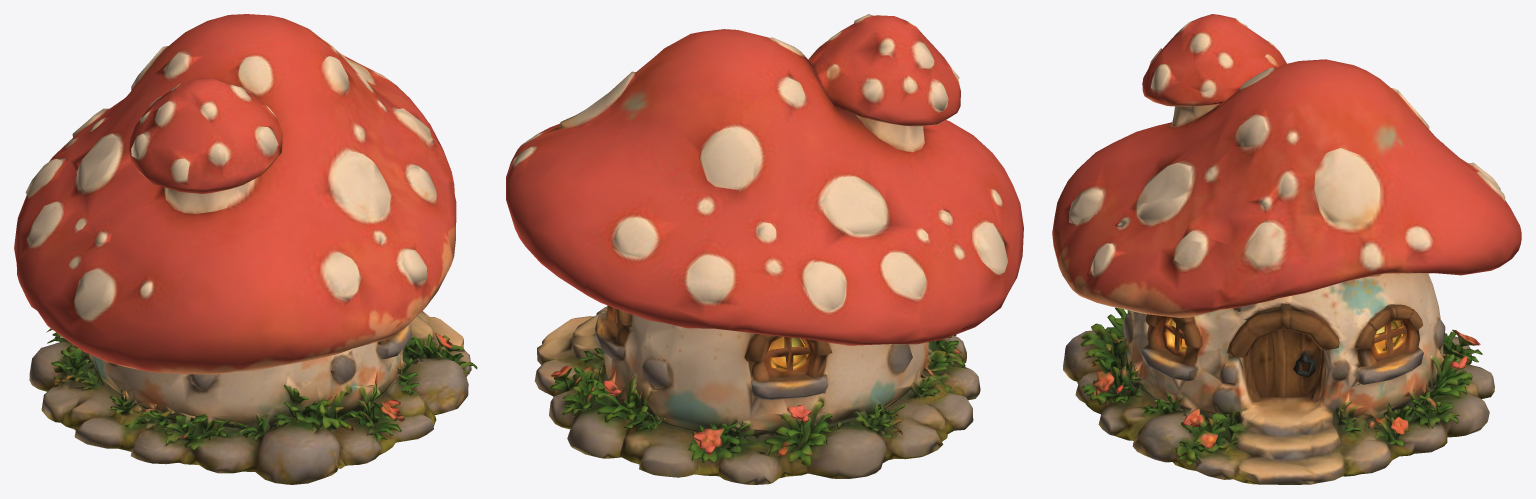
File: e4bedc81-mushroom-home-web.glb
3 renders of one model, left to right at view 1: azimuth 30°, elevation 25°; view 2: azimuth 150°, elevation 25°; view 3: azimuth 270°, elevation 25°, orthographic. The views are drawn at different scales.
Visible parts, largest first — view 1: mushroom-home-part-0; view 2: mushroom-home-part-0; view 3: mushroom-home-part-0.
Boxes of the visible parts, x1=… form: mushroom-home-part-0: x1=14, y1=14, x2=477, y2=484; mushroom-home-part-0: x1=506, y1=14, x2=1023, y2=484; mushroom-home-part-0: x1=1052, y1=14, x2=1521, y2=484.
Bounding box in the file's own units: 1.21 × 0.997 × 1.26.
1 material, 1 textured.
